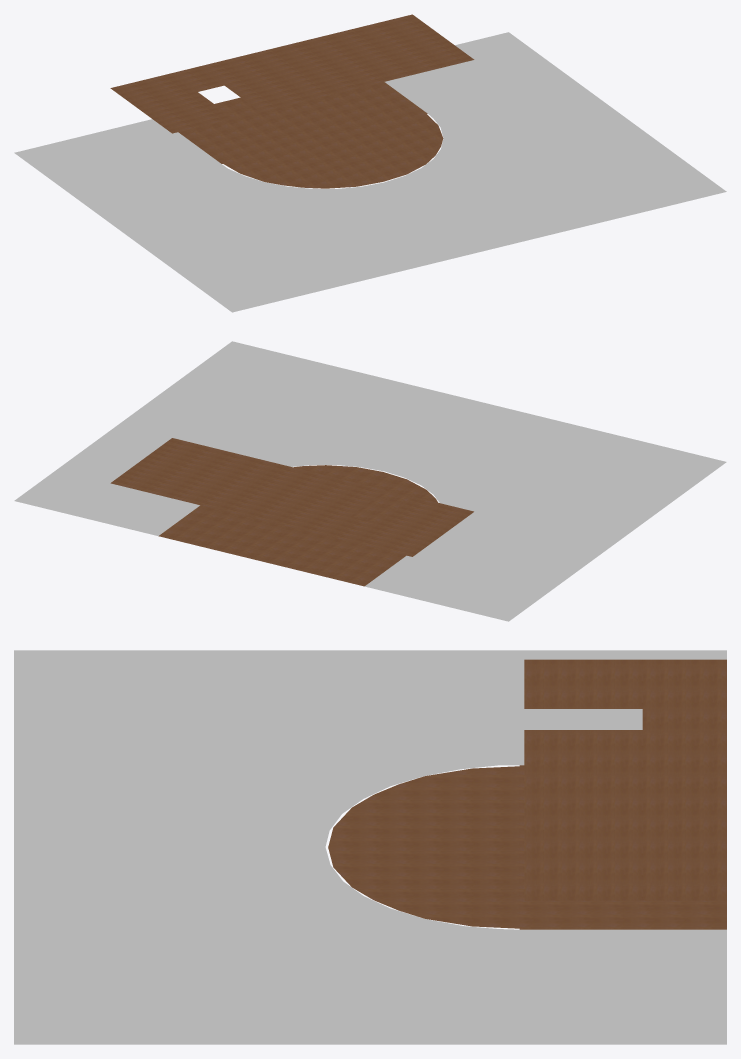
The model's file is floor.FBX.
3 renders of one model, top to bottom at view 1: azimuth 30°, elevation 25°; view 2: azimuth 150°, elevation 25°; view 3: azimuth 270°, elevation 25°, orthographic. The views are drawn at different scales.
Parts seen in each view (by area): view 1: Object008, 木质地板; view 2: Object008, 木质地板; view 3: Object008, 木质地板.
Part boxes in pixels (x1=…): Object008: x1=14, y1=32, x2=726, y2=312; 木质地板: x1=110, y1=14, x2=474, y2=188; Object008: x1=14, y1=341, x2=726, y2=621; 木质地板: x1=110, y1=438, x2=473, y2=586; Object008: x1=14, y1=650, x2=726, y2=1044; 木质地板: x1=328, y1=659, x2=726, y2=929.
Size of the model in its own units: 3600 by 286 by 2750.
